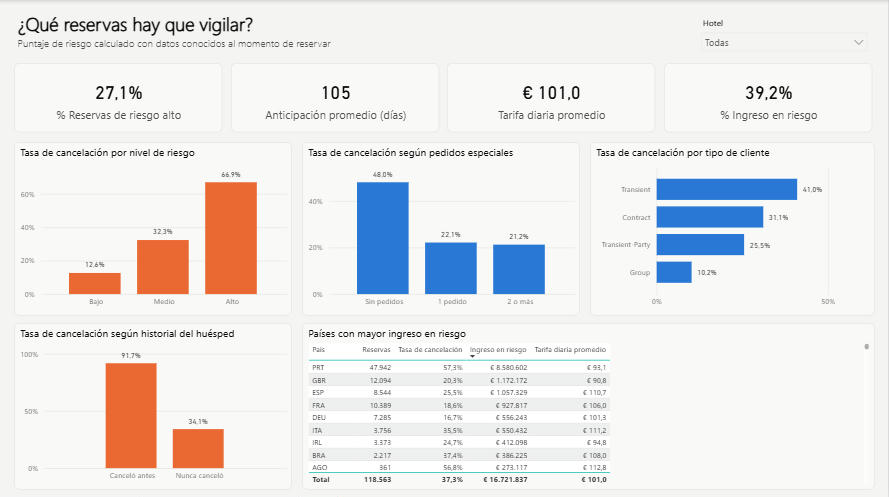

The page's visual inventory and layout, read from the dashboard file:
{"tool":"powerbi","page":{"name":"Riesgo de cancelación","canvas":[1280,720],"ordinal":1},"visuals":[{"type":"textbox","box":[20,10,900,70],"z":1000},{"type":"slicer","fields":{"Values":["bookings.hotel"]},"box":[1000,18,260,60],"z":2000},{"type":"card","title":"% Reservas de riesgo alto","fields":{"Values":["_Medidas.% Reservas riesgo alto"]},"box":[20,90,300,100],"z":3000},{"type":"card","title":"Anticipación promedio (días)","fields":{"Values":["_Medidas.Anticipación promedio (días)"]},"box":[332,90,300,100],"z":4000},{"type":"card","title":"Tarifa diaria promedio","fields":{"Values":["_Medidas.Tarifa diaria promedio"]},"box":[644,90,300,100],"z":5000},{"type":"card","title":"% Ingreso en riesgo","fields":{"Values":["_Medidas.% Ingreso en riesgo"]},"box":[956,90,300,100],"z":6000},{"type":"clusteredColumnChart","title":"Tasa de cancelación por nivel de riesgo","fields":{"Category":["bookings.risk_level"],"Y":["_Medidas.Tasa de cancelación"]},"box":[20,205,400,250],"z":7000},{"type":"clusteredColumnChart","title":"Tasa de cancelación según pedidos especiales","fields":{"Category":["bookings.special_requests_band"],"Y":["_Medidas.Tasa de cancelación"]},"box":[435,205,400,250],"z":8000},{"type":"clusteredBarChart","title":"Tasa de cancelación por tipo de cliente","fields":{"Category":["bookings.customer_type"],"Y":["_Medidas.Tasa de cancelación"]},"box":[850,205,410,250],"z":9000},{"type":"clusteredColumnChart","title":"Tasa de cancelación según historial del huésped","fields":{"Category":["bookings.previous_cancel_label"],"Y":["_Medidas.Tasa de cancelación"]},"box":[20,465,400,240],"z":10000},{"type":"tableEx","title":"Países con mayor ingreso en riesgo","fields":{"Values":["bookings.country","_Medidas.Reservas","_Medidas.Tasa de cancelación","_Medidas.Ingreso en riesgo","_Medidas.Tarifa diaria promedio"]},"box":[435,465,825,240],"z":11000}]}

Visuals, with their boxes in screenshot pixels (x1, y1, x2, y2), scaled from the page's 1280x720 canvas onto the 889x497 screenshot:
textbox: (x1=14, y1=7, x2=639, y2=55)
slicer - bookings.hotel: (x1=695, y1=12, x2=875, y2=54)
"% Reservas de riesgo alto" card: (x1=14, y1=62, x2=222, y2=131)
"Anticipación promedio (días)" card: (x1=231, y1=62, x2=439, y2=131)
"Tarifa diaria promedio" card: (x1=447, y1=62, x2=656, y2=131)
"% Ingreso en riesgo" card: (x1=664, y1=62, x2=872, y2=131)
"Tasa de cancelación por nivel de riesgo" clusteredColumnChart: (x1=14, y1=142, x2=292, y2=314)
"Tasa de cancelación según pedidos especiales" clusteredColumnChart: (x1=302, y1=142, x2=580, y2=314)
"Tasa de cancelación por tipo de cliente" clusteredBarChart: (x1=590, y1=142, x2=875, y2=314)
"Tasa de cancelación según historial del huésped" clusteredColumnChart: (x1=14, y1=321, x2=292, y2=487)
"Países con mayor ingreso en riesgo" tableEx: (x1=302, y1=321, x2=875, y2=487)
